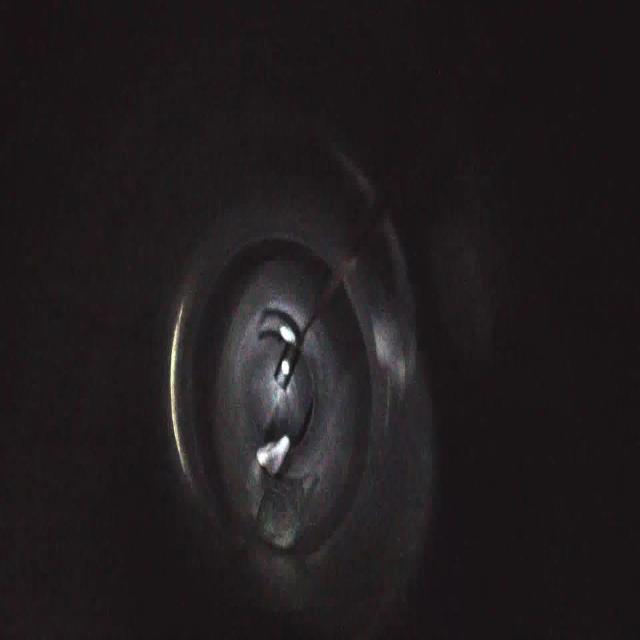impurity: (250, 478, 308, 560), (255, 433, 292, 479)
